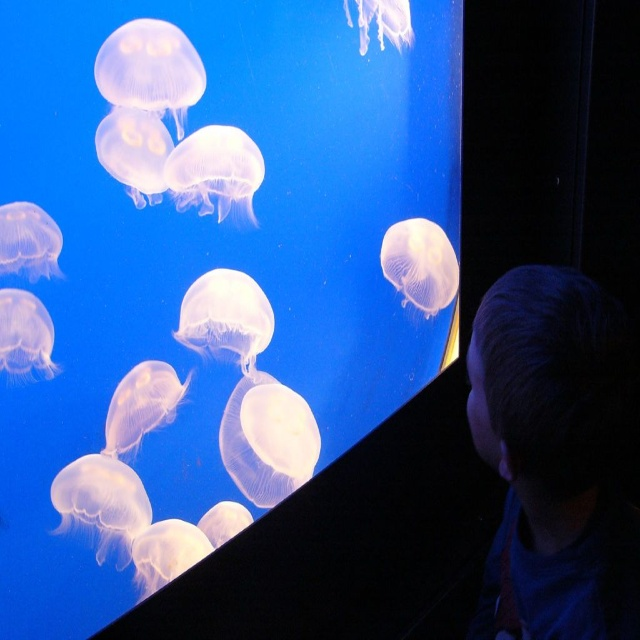Jellyfish: (0, 0, 460, 607)
